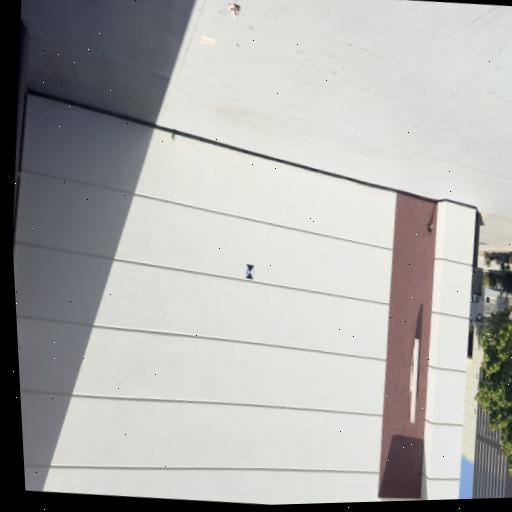target7: (245, 264, 255, 280)
